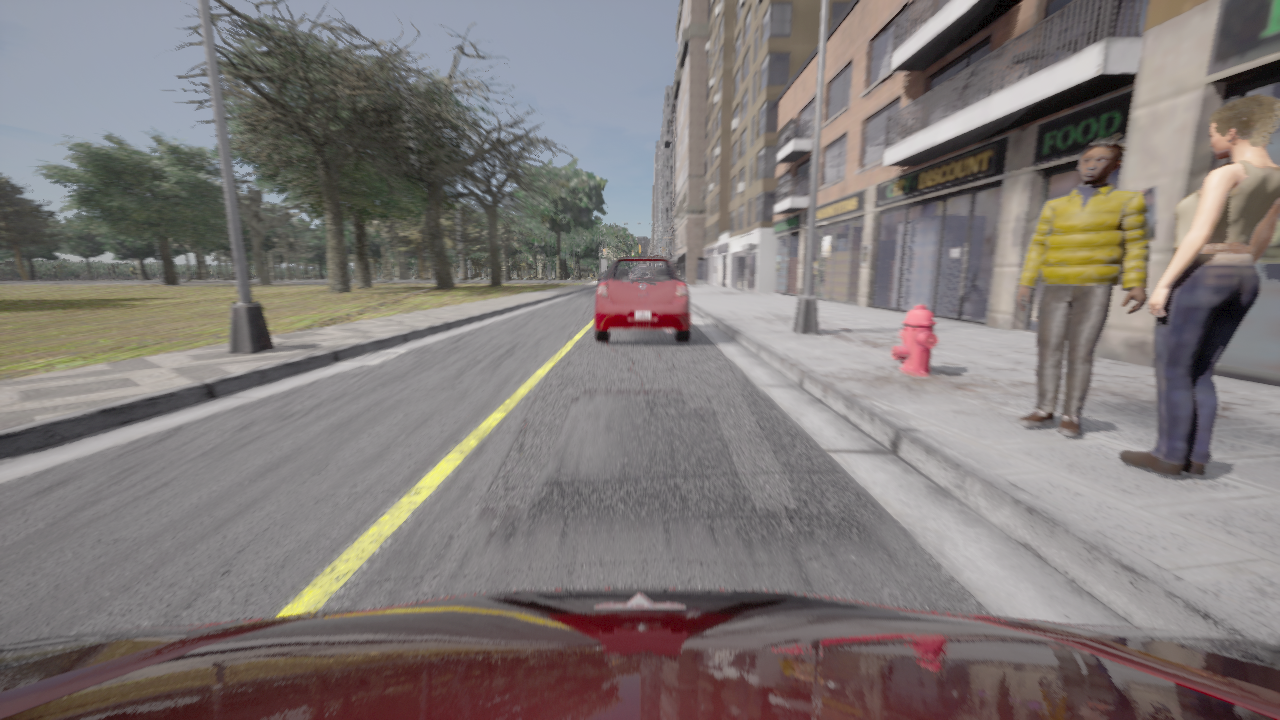cyclist: (0, 588, 1279, 719), (594, 257, 690, 342), (598, 271, 607, 285)
pedestrian: (1119, 94, 1279, 476), (1016, 134, 1149, 436)
